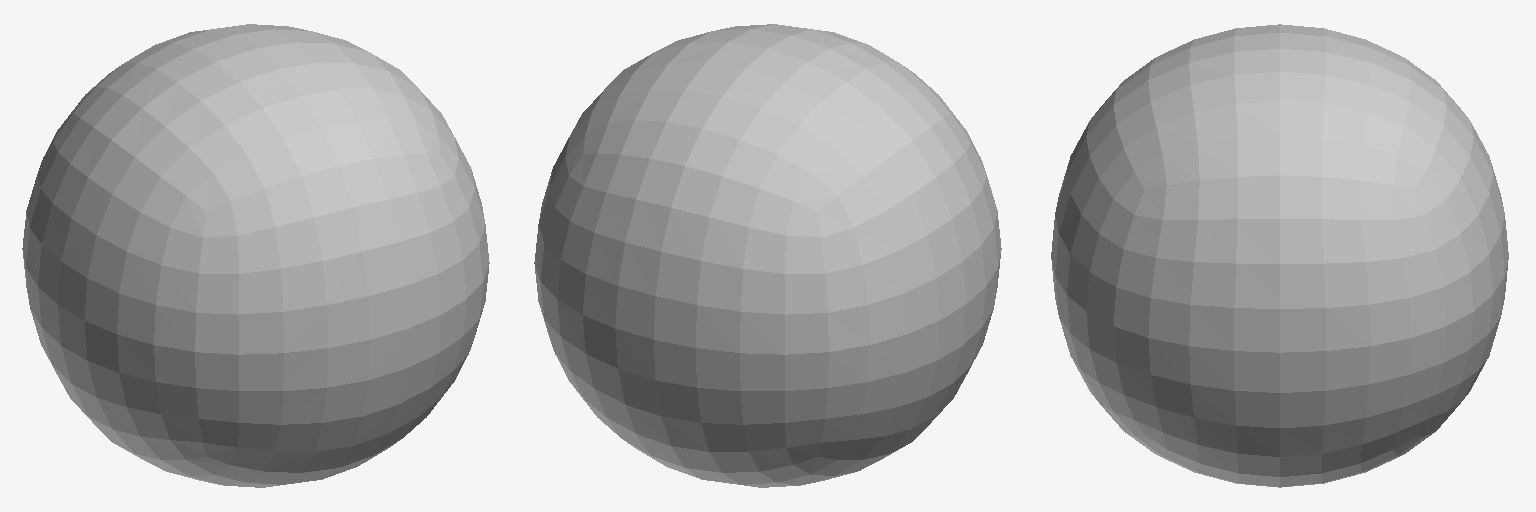
Rendered from Ball.obj.
The picture shows the model from 3 angles: view 1: azimuth 30°, elevation 25°; view 2: azimuth 150°, elevation 25°; view 3: azimuth 270°, elevation 25°; orthographic projection.
Parts seen in each view (by area): view 1: Box001; view 2: Box001; view 3: Box001.
Boxes of the visible parts, x1,y1,x2,y2 form: Box001: [22, 24, 489, 487]; Box001: [534, 24, 1001, 487]; Box001: [1051, 24, 1508, 487].
Bounding box in the file's own units: 3.34 × 3.34 × 3.34.